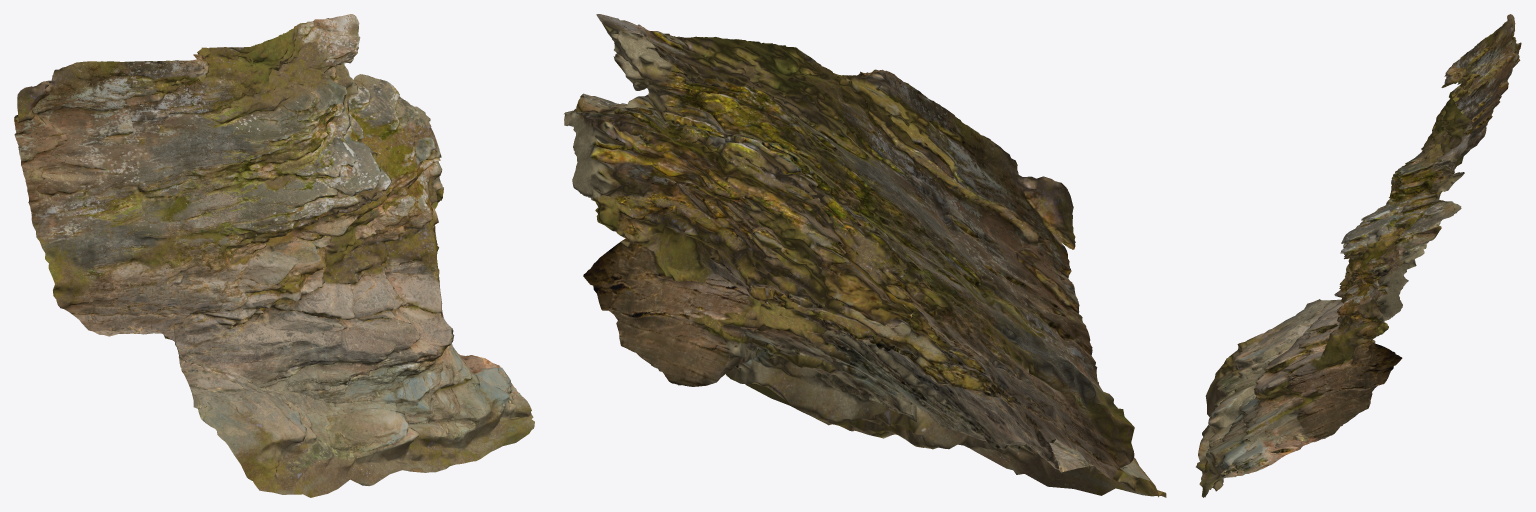
The picture shows the model from 3 angles, left to right: view 1: azimuth 30°, elevation 25°; view 2: azimuth 150°, elevation 25°; view 3: azimuth 270°, elevation 25°; orthographic projection. The views are drawn at different scales.
Visible parts, largest first — view 1: rock_face_02; view 2: rock_face_02; view 3: rock_face_02.
Part boxes in pixels (x1,y1,x2,y2): rock_face_02: [14, 14, 534, 497]; rock_face_02: [564, 14, 1166, 497]; rock_face_02: [1196, 14, 1521, 497].
Bounding box in the file's own units: 2.71 × 2.47 × 2.13.
Materials: 1 (1 with a texture image).
